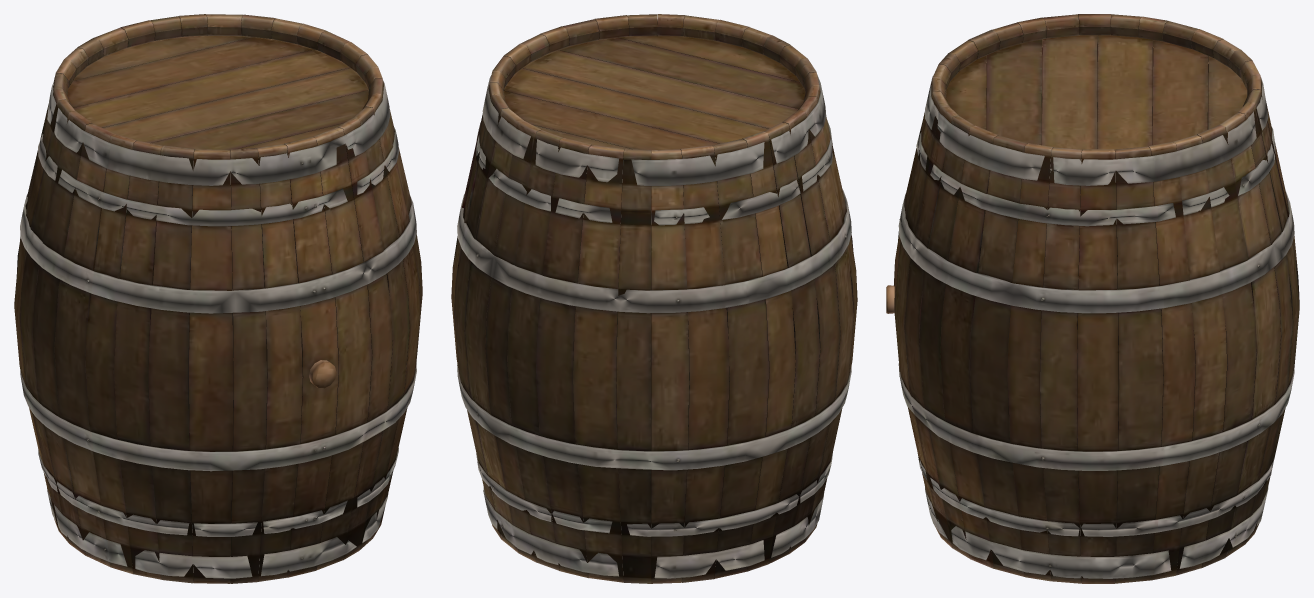
The model's file is wine_barrel_01.light.glb.
The picture shows the model from 3 angles, left to right: view 1: azimuth 30°, elevation 25°; view 2: azimuth 150°, elevation 25°; view 3: azimuth 270°, elevation 25°; orthographic projection.
Parts seen in each view (by area): view 1: wine_barrel_01, wine_barrel_01_Lid, wine_barrel_01_bung; view 2: wine_barrel_01, wine_barrel_01_Lid; view 3: wine_barrel_01, wine_barrel_01_Lid.
Part boxes in pixels (x1=…): wine_barrel_01: x1=14, y1=14, x2=422, y2=583; wine_barrel_01_Lid: x1=67, y1=36, x2=368, y2=149; wine_barrel_01_bung: x1=309, y1=360, x2=336, y2=388; wine_barrel_01: x1=451, y1=14, x2=857, y2=583; wine_barrel_01_Lid: x1=503, y1=36, x2=805, y2=152; wine_barrel_01: x1=894, y1=14, x2=1299, y2=583; wine_barrel_01_Lid: x1=946, y1=35, x2=1247, y2=149.
Size of the model in its own units: 1.96 by 2.3 by 2.
1 material, 1 textured.
